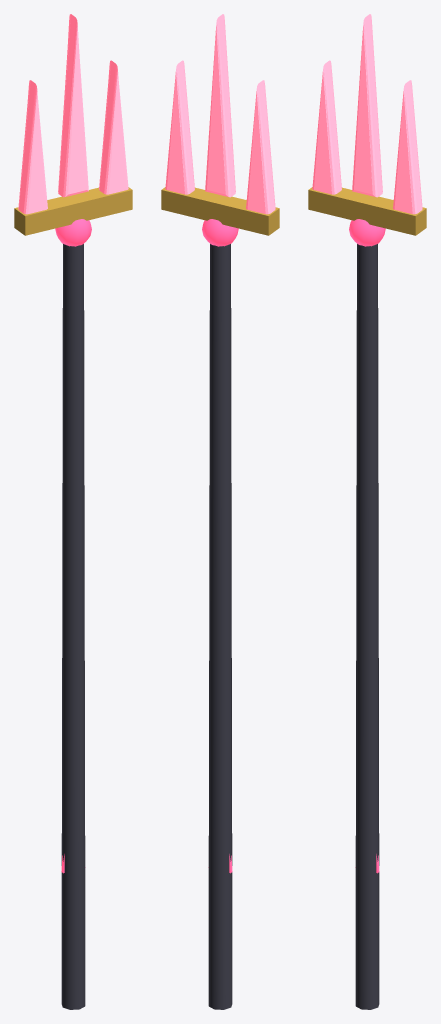
File: spear_f2_143e4ff.glb
3 views of the same model, side by side, from view 1: azimuth 30°, elevation 25°; view 2: azimuth 150°, elevation 25°; view 3: azimuth 330°, elevation 25° (orthographic).
Visible parts, largest first — view 1: m0_ow80_, m6_ow80_, m4_ow80_, m5_gm160_; view 2: m0_ow80_, m6_ow80_, m4_ow80_, m5_gm160_; view 3: m0_ow80_, m6_ow80_, m4_ow80_, m5_gm160_.
Boxes of the visible parts, bbox=[...] form: m0_ow80_: bbox=[61, 244, 85, 1009]; m6_ow80_: bbox=[18, 14, 128, 214]; m4_ow80_: bbox=[14, 187, 132, 235]; m5_gm160_: bbox=[55, 219, 91, 246]; m0_ow80_: bbox=[208, 244, 232, 1009]; m6_ow80_: bbox=[165, 14, 275, 214]; m4_ow80_: bbox=[161, 187, 279, 235]; m5_gm160_: bbox=[202, 219, 238, 246]; m0_ow80_: bbox=[355, 244, 379, 1009]; m6_ow80_: bbox=[312, 14, 422, 214]; m4_ow80_: bbox=[308, 187, 426, 235]; m5_gm160_: bbox=[349, 219, 385, 246].
Size of the model in its own units: 0.4 by 3.52 by 0.1141.
